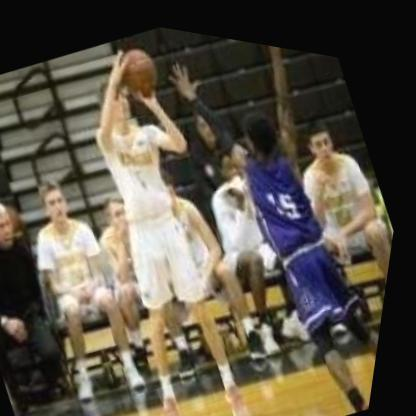basketball: (107, 31, 173, 103)
